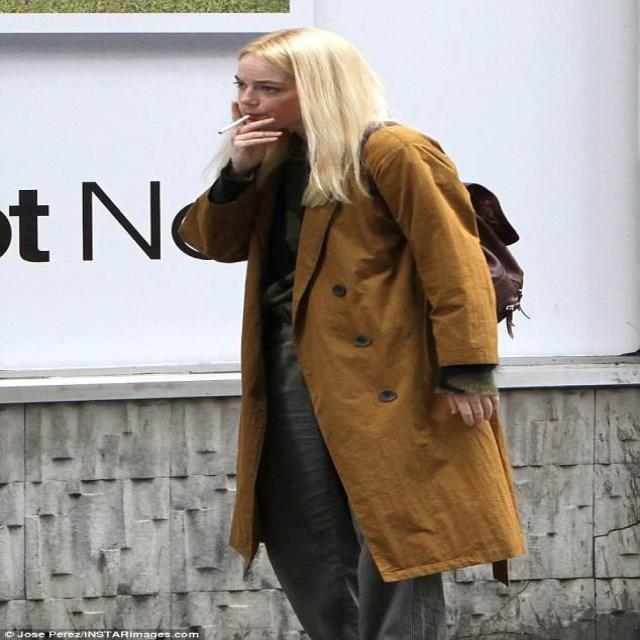cigarette: (211, 101, 252, 143)
